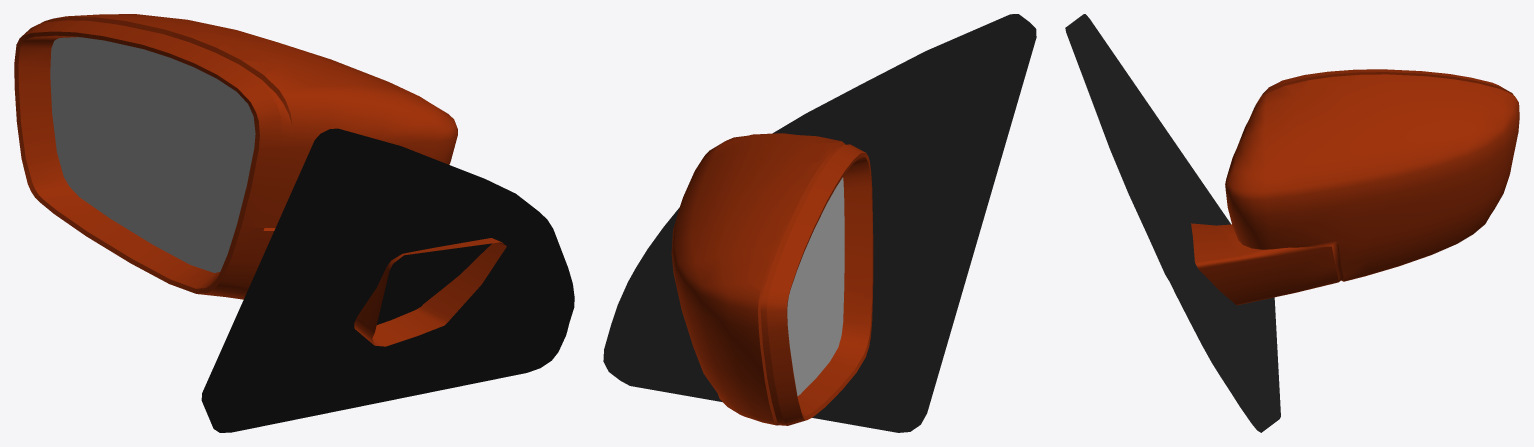
The picture shows the model from 3 angles, left to right: view 1: azimuth 30°, elevation 25°; view 2: azimuth 150°, elevation 25°; view 3: azimuth 270°, elevation 25°; orthographic projection. The views are drawn at different scales.
Visible parts, largest first — view 1: U236_17_261I_L_U236_17_261I_L_2_D, U236_17_261I_L_1_DaS_U236_17_261I_L, U236_17_261I_L_U236_17_261I_L_3_DTaSI, U236_17_261I_L_1_DaS_U236_17_261I_L_E; view 2: U236_17_261I_L_U236_17_261I_L_2_D, U236_17_261I_L_1_DaS_U236_17_261I_L, U236_17_261I_L_U236_17_261I_L_3_DTaSI, U236_17_261I_L_1_DaS_U236_17_261I_L_E; view 3: U236_17_261I_L_1_DaS_U236_17_261I_L, U236_17_261I_L_U236_17_261I_L_2_D, U236_17_261I_L_1_DaS_U236_17_261I_L_E.
Part boxes in pixels (x1,y1,x2,y2): U236_17_261I_L_U236_17_261I_L_2_D: (201,128,574,432); U236_17_261I_L_1_DaS_U236_17_261I_L: (18,14,506,346); U236_17_261I_L_U236_17_261I_L_3_DTaSI: (50,37,255,272); U236_17_261I_L_1_DaS_U236_17_261I_L_E: (14,16,292,293); U236_17_261I_L_U236_17_261I_L_2_D: (603,14,1036,432); U236_17_261I_L_1_DaS_U236_17_261I_L: (671,133,872,425); U236_17_261I_L_U236_17_261I_L_3_DTaSI: (787,177,844,396); U236_17_261I_L_1_DaS_U236_17_261I_L_E: (758,141,873,425); U236_17_261I_L_1_DaS_U236_17_261I_L: (1191,69,1519,305); U236_17_261I_L_U236_17_261I_L_2_D: (1065,14,1280,432); U236_17_261I_L_1_DaS_U236_17_261I_L_E: (1256,72,1513,281).
Bounding box in the file's own units: 22.56 × 23.77 × 32.45.
